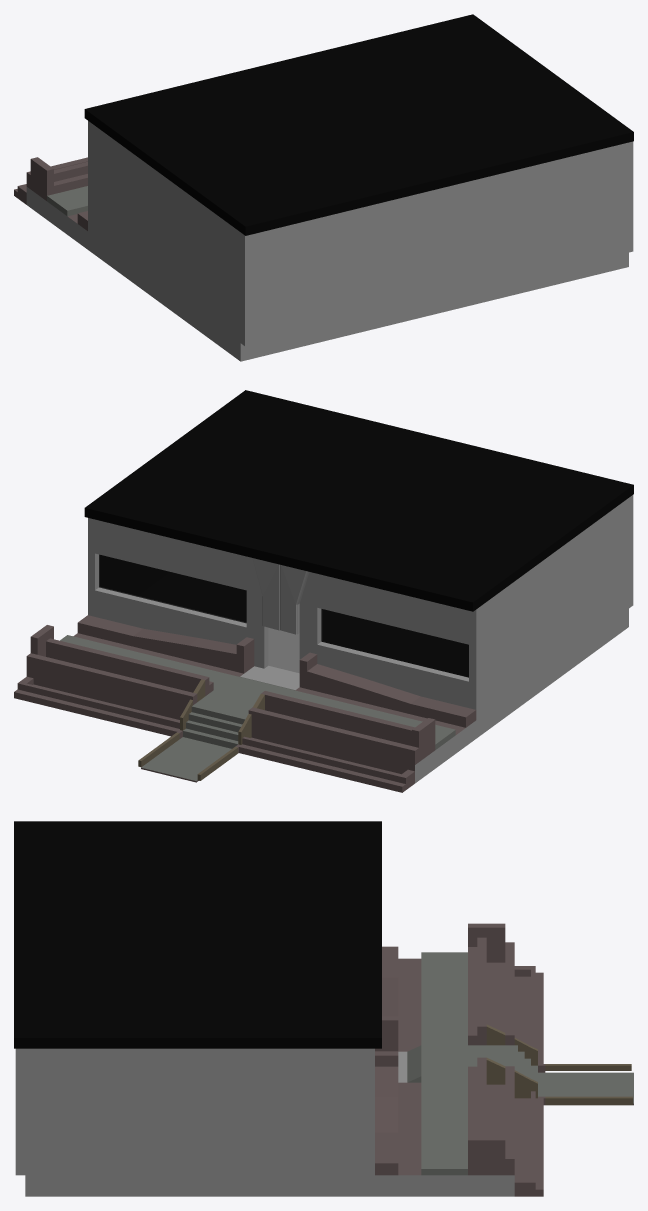
Rendered from Condo 4.FBX.
3 renders of one model, top to bottom at view 1: azimuth 30°, elevation 25°; view 2: azimuth 150°, elevation 25°; view 3: azimuth 270°, elevation 25°, orthographic. The views are drawn at different scales.
Parts seen in each view (by area): view 1: Roof, Walls, Foundation, Decor, Pathway; view 2: Roof, Walls, Decor, Pathway, Foundation, Window L, Window R, Rails, Door; view 3: Roof, Walls, Decor, Pathway, Foundation, Rails.
Boxes of the visible parts, left/top/right/bottom form: Roof: left=84, top=14, right=633, bottom=235; Walls: left=88, top=121, right=633, bottom=345; Foundation: left=26, top=187, right=628, bottom=361; Decor: left=14, top=157, right=87, bottom=230; Pathway: left=47, top=186, right=87, bottom=216; Roof: left=84, top=390, right=633, bottom=611; Walls: left=88, top=495, right=633, bottom=719; Decor: left=14, top=615, right=476, bottom=792; Pathway: left=60, top=635, right=455, bottom=780; Foundation: left=240, top=609, right=628, bottom=783; Window L: left=99, top=554, right=246, bottom=623; Window R: left=321, top=609, right=468, bottom=677; Rails: left=138, top=679, right=264, bottom=780; Door: left=268, top=627, right=299, bottom=673; Roof: left=14, top=821, right=381, bottom=1048; Walls: left=15, top=1048, right=374, bottom=1175; Decor: left=375, top=923, right=633, bottom=1196; Pathway: left=407, top=952, right=633, bottom=1175; Foundation: left=25, top=1051, right=514, bottom=1196; Rails: left=486, top=1024, right=632, bottom=1105.
Size of the model in its own units: 866 by 298 by 1047.
